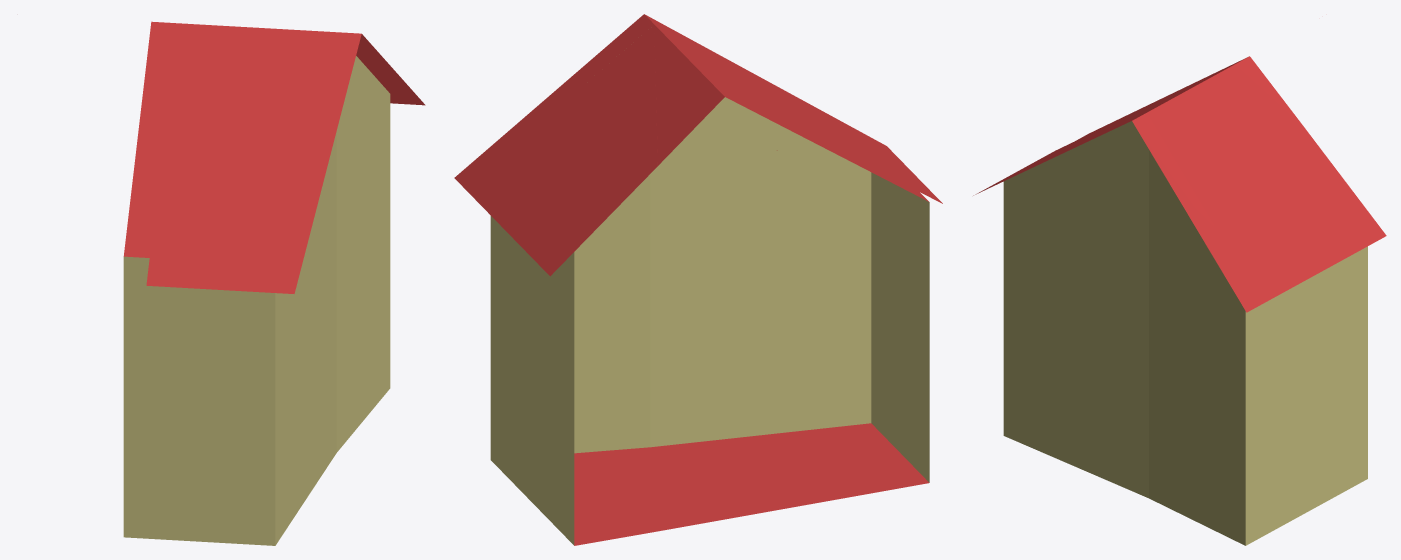
3 renders of one model, left to right at view 1: azimuth 30°, elevation 25°; view 2: azimuth 150°, elevation 25°; view 3: azimuth 270°, elevation 25°, orthographic. The views are drawn at different scales.
Size of the model in its own units: 12.85 by 13.04 by 13.35.
